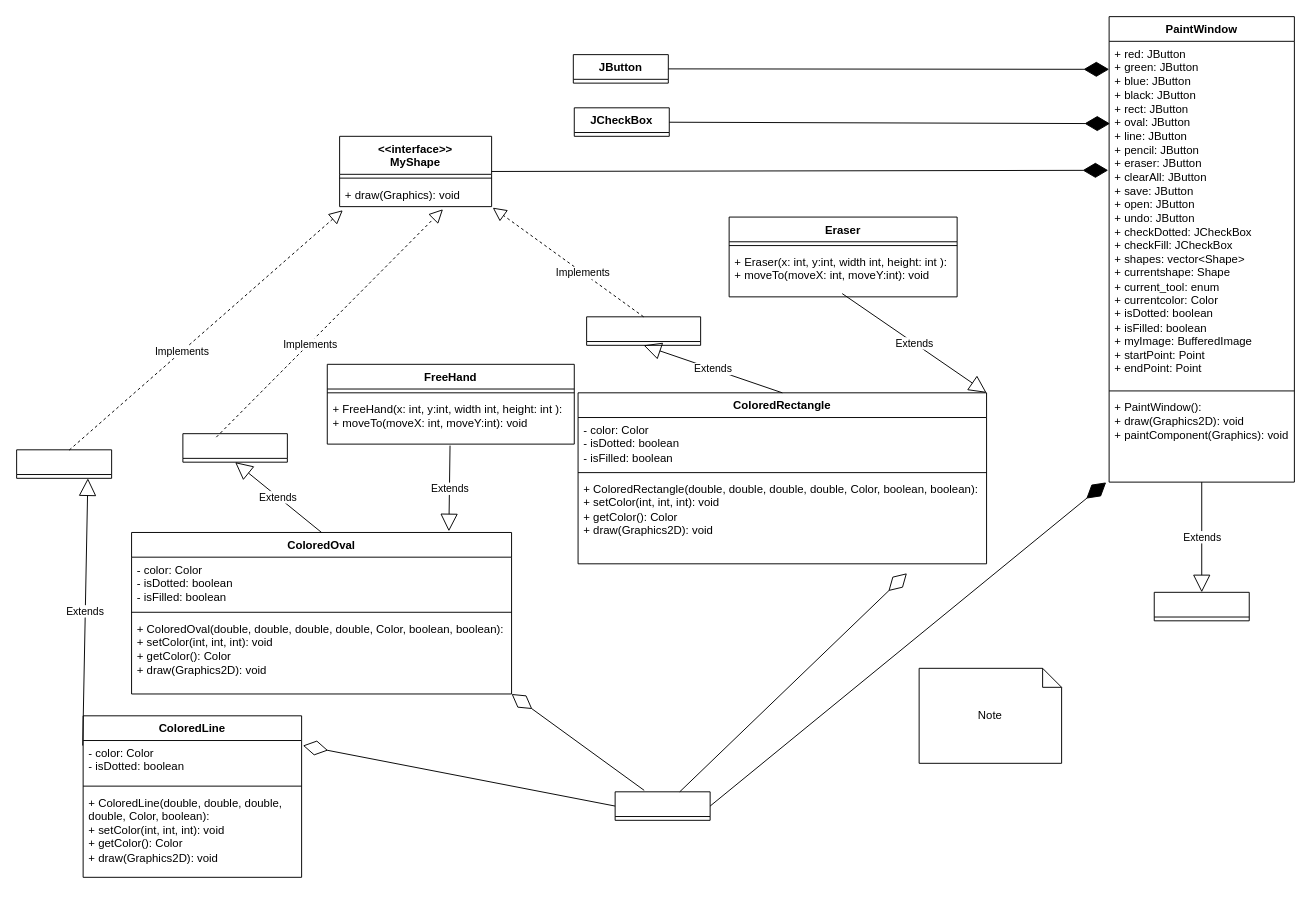
Some shapes in this 1311 by 897 pixel diagram are drawn without their labels. Each missing label, with the centre of its shape:
Color: (662,805)
Ellipse2D.Double: (234,447)
JPanel: (1201,606)
Line2D.Double: (64,463)
Rectangle: (643,330)
